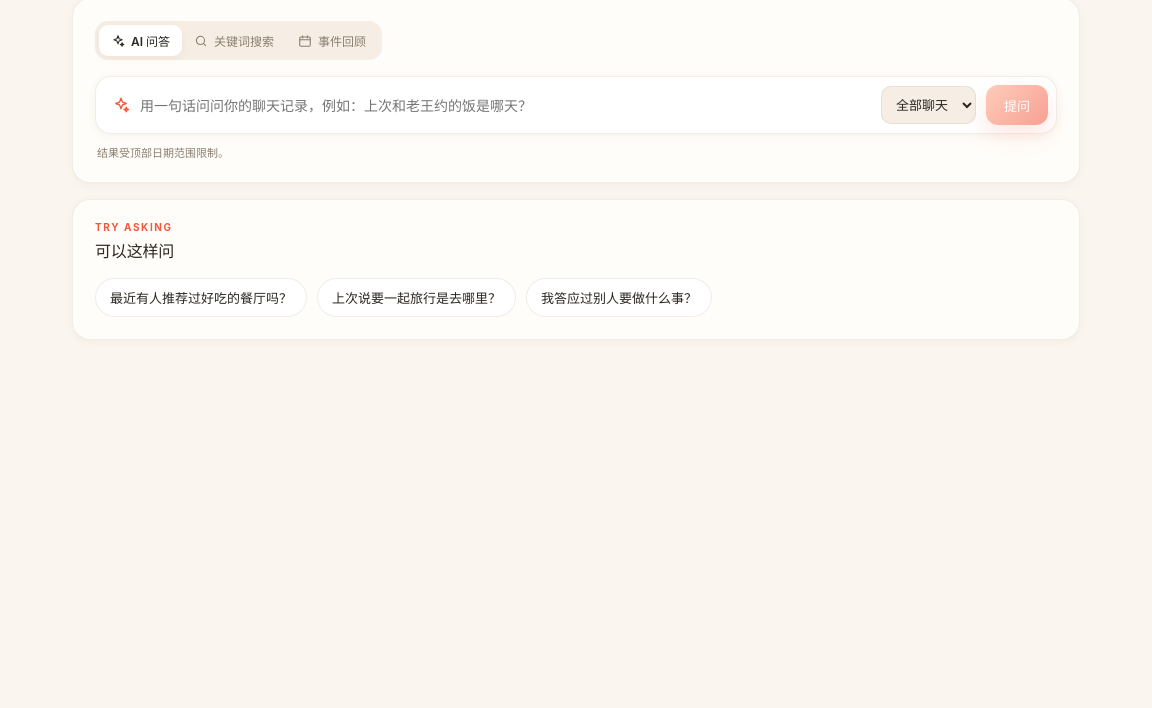
Test case: event review › routes an exact date recap to event review and opens a real source
Type "2026-10-27发生了什么" into the field named "输入问题".
click(506, 105); type("2026-10-27发生了什么")  # box x1=140 y1=88 x2=871 y2=122
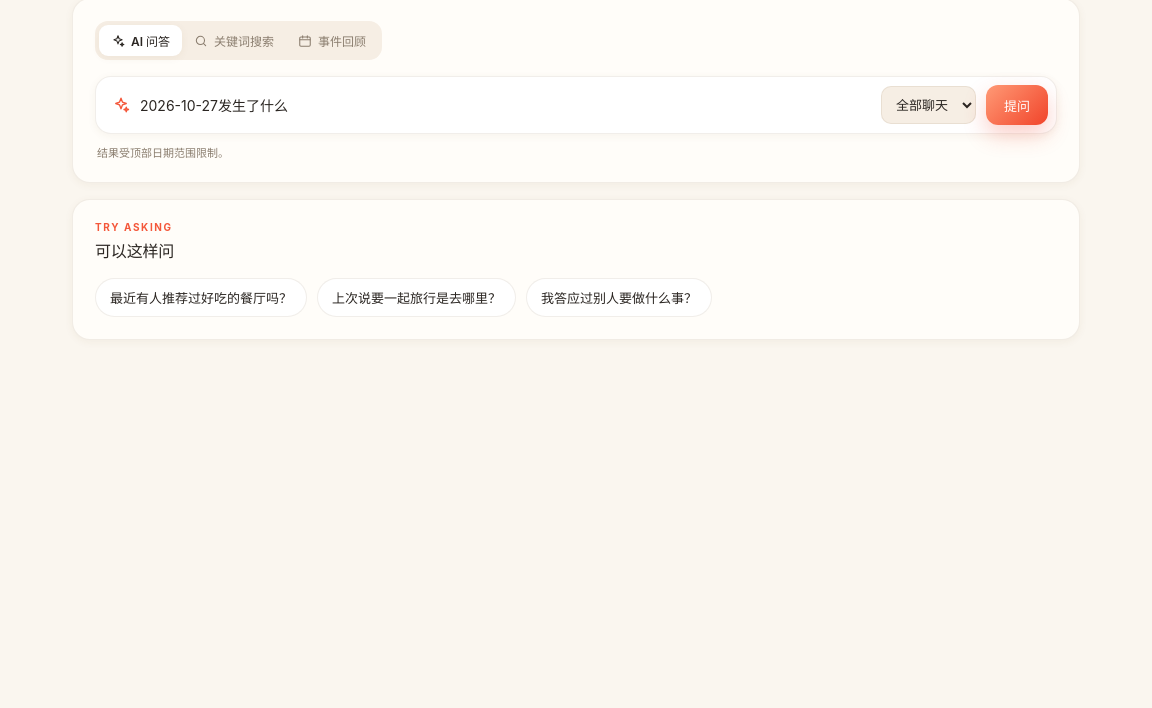
Click the button "提问".
click(1017, 105)  # box x1=986 y1=85 x2=1048 y2=125
(page scrolled)
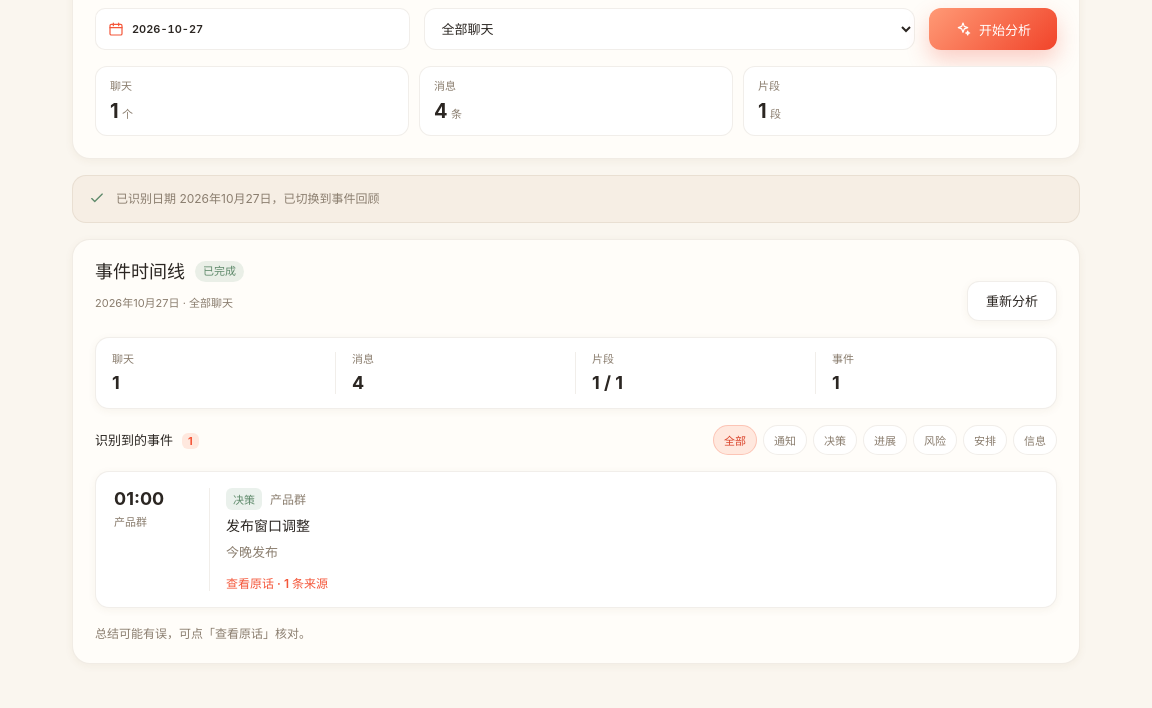
Result: the text "已识别日期 2026年10月27日，已切换到事件回顾" is shown at x1=116 y1=189 x2=380 y2=209
Result: the heading "发布窗口调整" is shown at x1=226 y1=517 x2=310 y2=534
Click the button "查看原话 · 1 条来源".
click(277, 582)  # box x1=226 y1=574 x2=328 y2=590
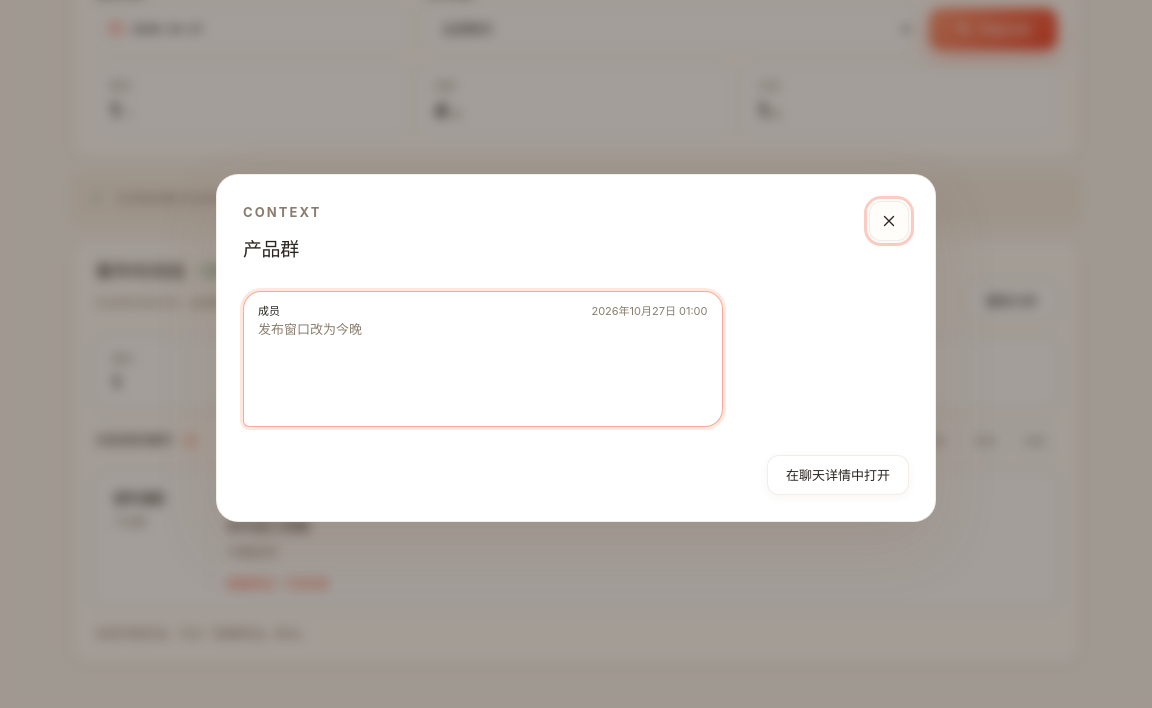
Result: the text "发布窗口改为今晚" is shown at x1=258 y1=320 x2=362 y2=336
